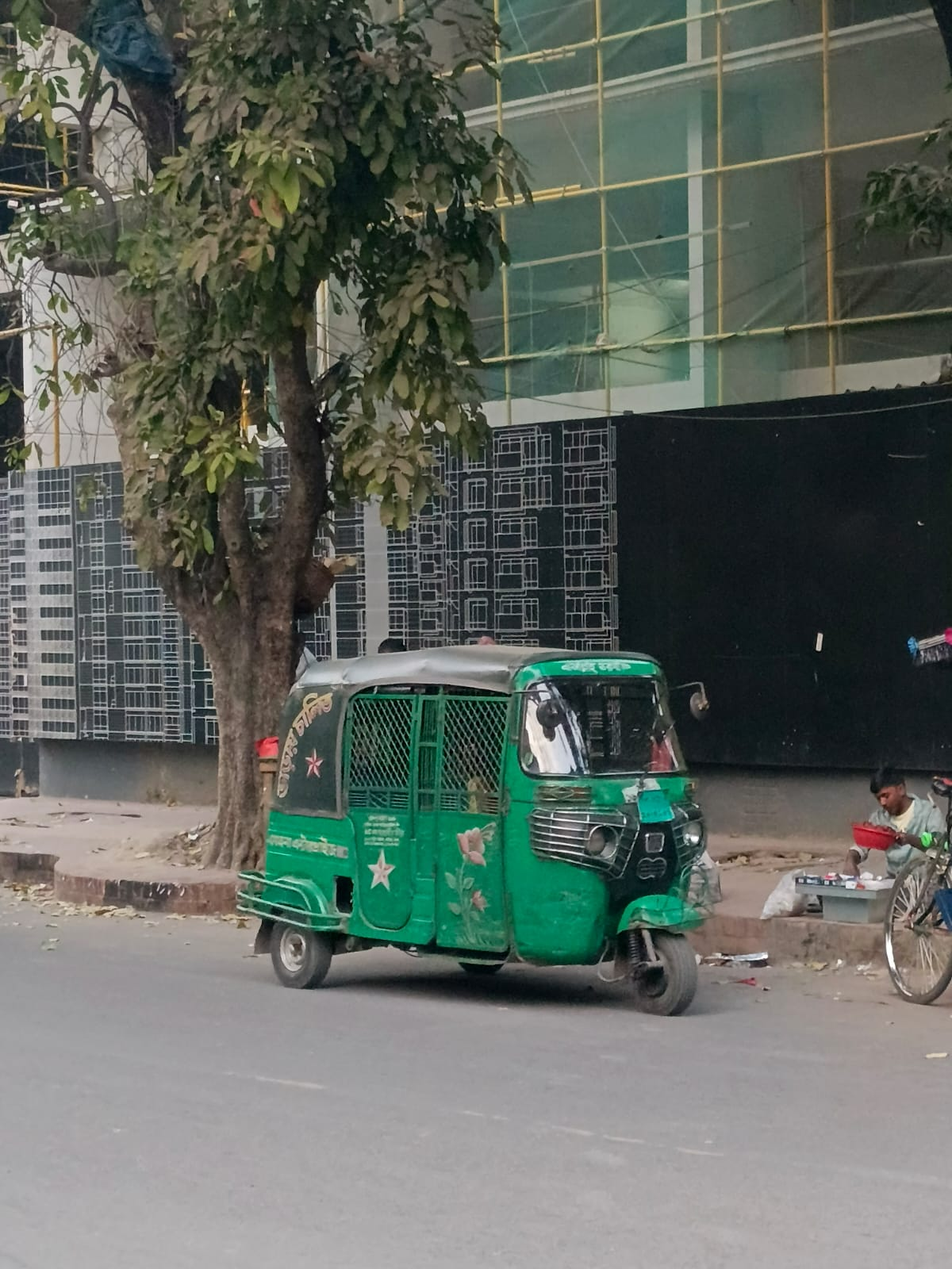cng: (214, 646, 800, 1052)
